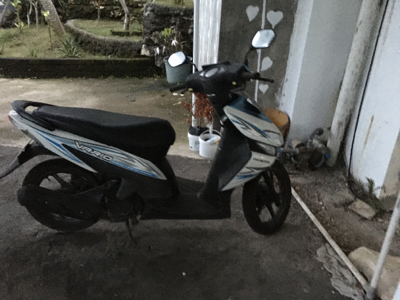moto: (9, 59, 296, 246)
